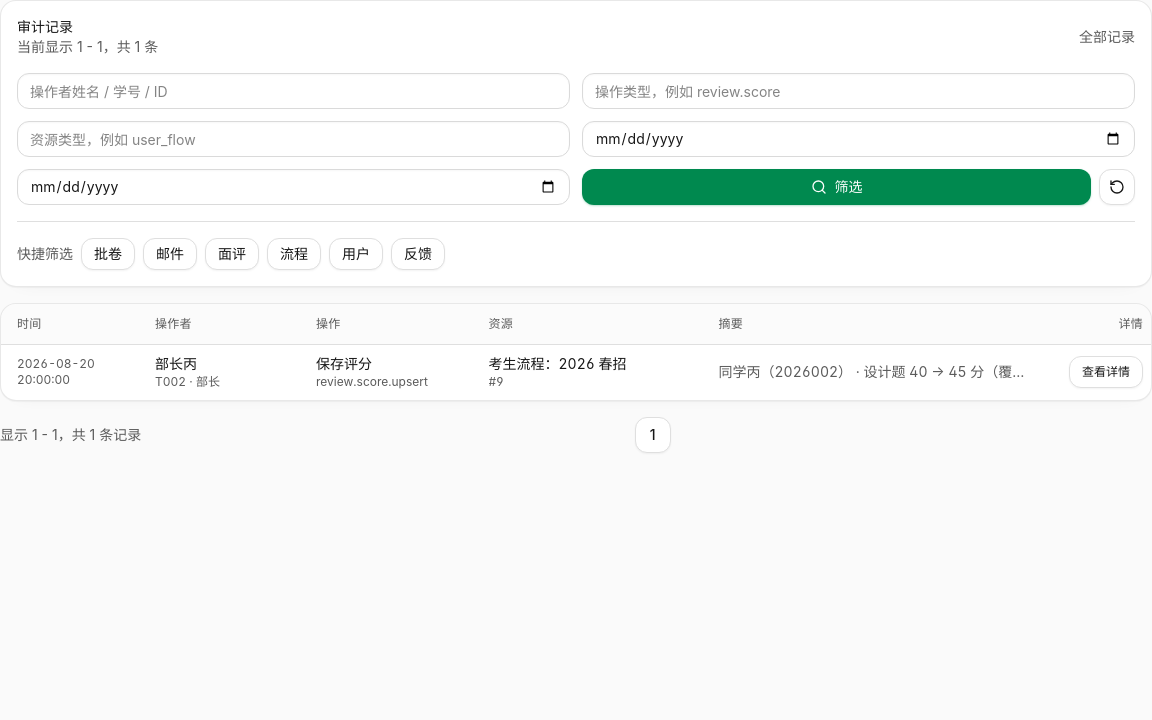
it: AuditLogTable › marks a score change that overwrote another grader
Expected: the text "同学丙（2026002） · 设计题 40 → 45 分（覆盖 讲师甲 的评分）" is shown, [718,362,1031,382]
Click the button "查看详情" at point(1106, 372), box [1069,356,1143,388]
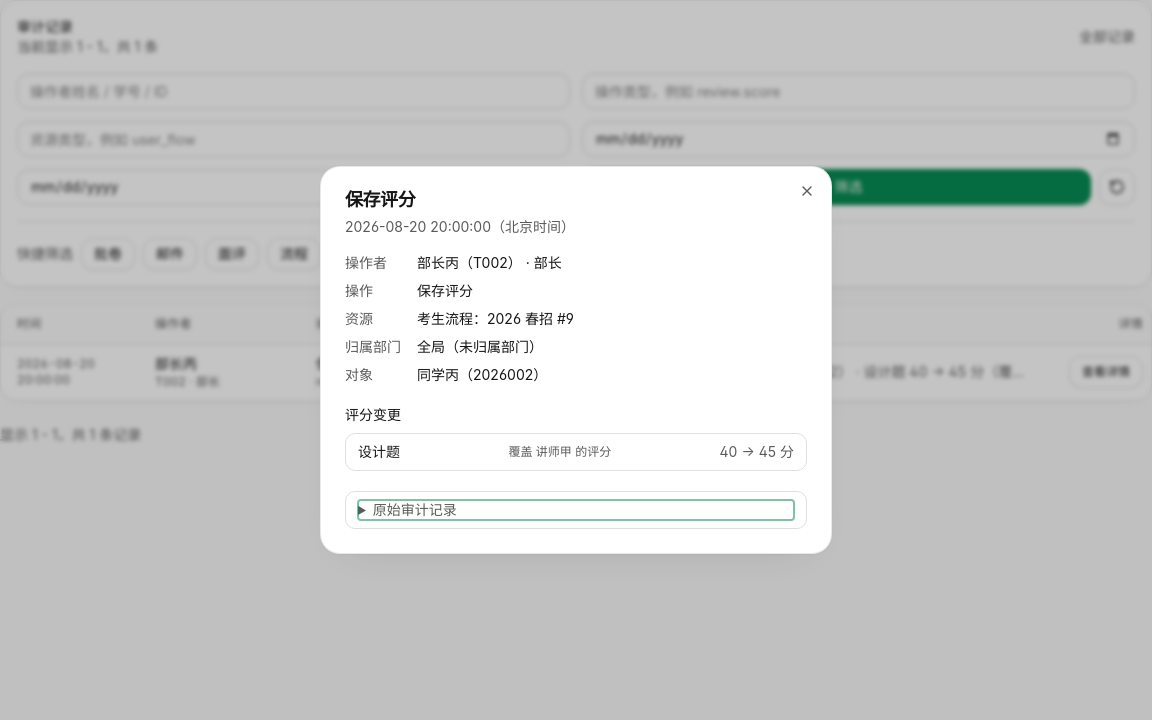
Expected: the text "覆盖 讲师甲 的评分" is shown, [508,444,611,460]
